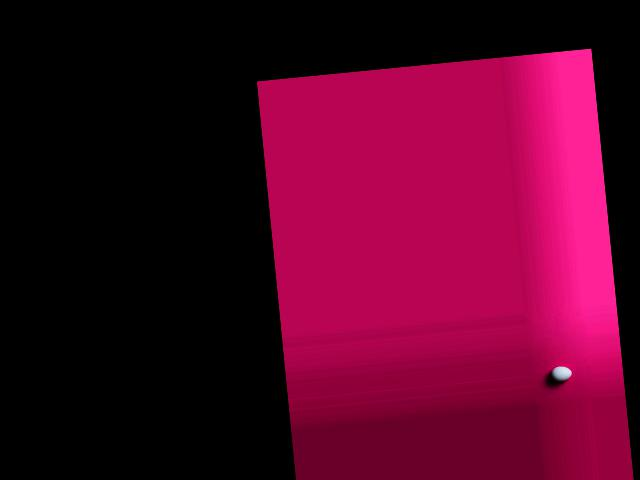egg: (549, 364, 572, 382)
